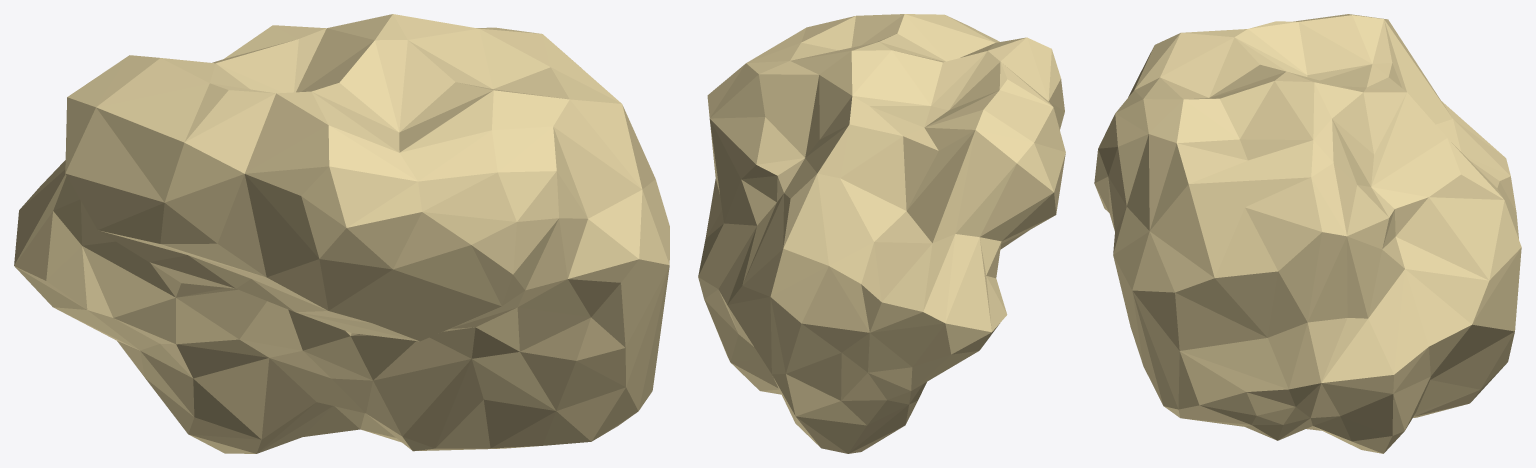
File: Asteroid (52).fbx
The picture shows the model from 3 angles, left to right: view 1: azimuth 30°, elevation 25°; view 2: azimuth 150°, elevation 25°; view 3: azimuth 270°, elevation 25°; orthographic projection. The views are drawn at different scales.
Parts seen in each view (by area): view 1: Asteroid103; view 2: Asteroid103; view 3: Asteroid103.
Part boxes in pixels (left/top/right/bottom): Asteroid103: left=14, top=14, right=669, bottom=453; Asteroid103: left=698, top=14, right=1065, bottom=453; Asteroid103: left=1094, top=14, right=1521, bottom=453.
Bounding box in the file's own units: 225 × 202 × 219.
